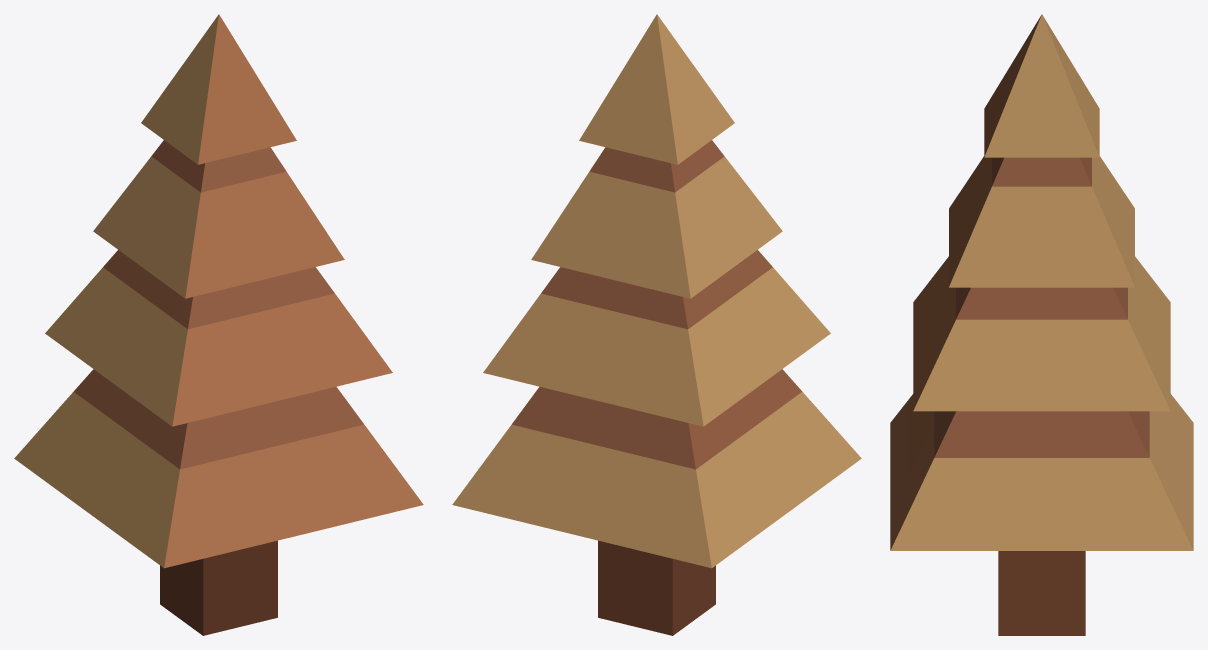
File: tree_11.FBX
3 views of the same model, side by side, from view 1: azimuth 30°, elevation 25°; view 2: azimuth 150°, elevation 25°; view 3: azimuth 270°, elevation 25° (orthographic).
Parts seen in each view (by area): view 1: tree_003; view 2: tree_003; view 3: tree_003.
Part boxes in pixels (x1=…): tree_003: x1=14, y1=14, x2=423, y2=635; tree_003: x1=452, y1=14, x2=861, y2=635; tree_003: x1=890, y1=14, x2=1193, y2=635.
Bounding box in the file's own units: 401 × 881 × 401.
